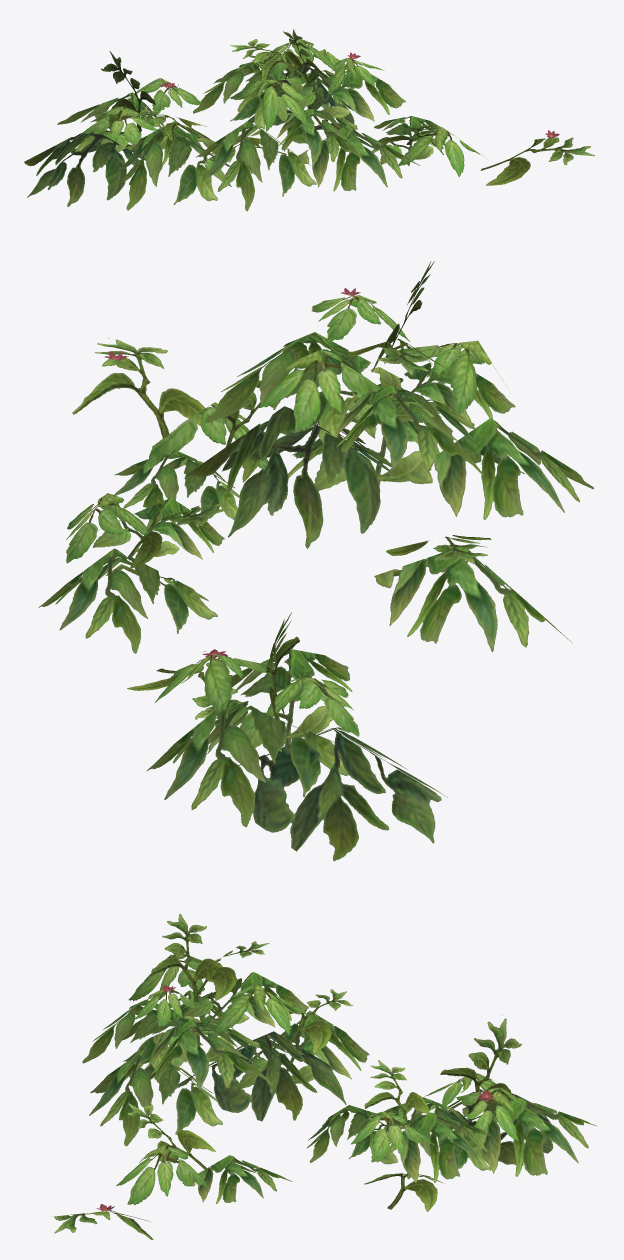
The model's file is S_Tree_Green030_A3.FBX.
3 views of the same model, one above another, from view 1: azimuth 30°, elevation 25°; view 2: azimuth 150°, elevation 25°; view 3: azimuth 270°, elevation 25° (orthographic). The views are drawn at different scales.
Parts seen in each view (by area): view 1: S_Tree_Green030_A3_1; view 2: S_Tree_Green030_A3_1; view 3: S_Tree_Green030_A3_1.
Part boxes in pixels (x1,y1,x2,y2): S_Tree_Green030_A3_1: (24,29,594,211); S_Tree_Green030_A3_1: (38,261,593,861); S_Tree_Green030_A3_1: (51,913,596,1239).
Bounding box in the file's own units: 330 × 176 × 340.
